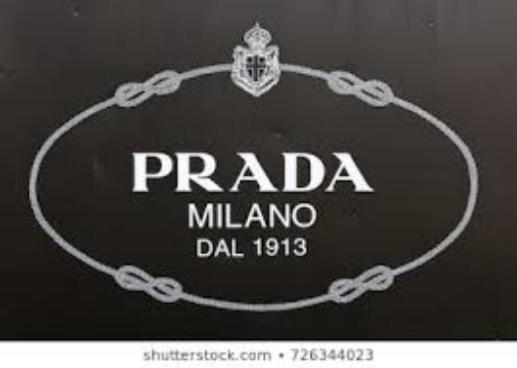PRADA: (126, 144, 374, 202)
